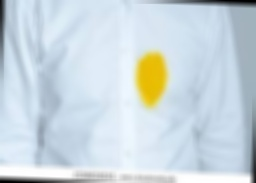mustard: (136, 52, 173, 111)
